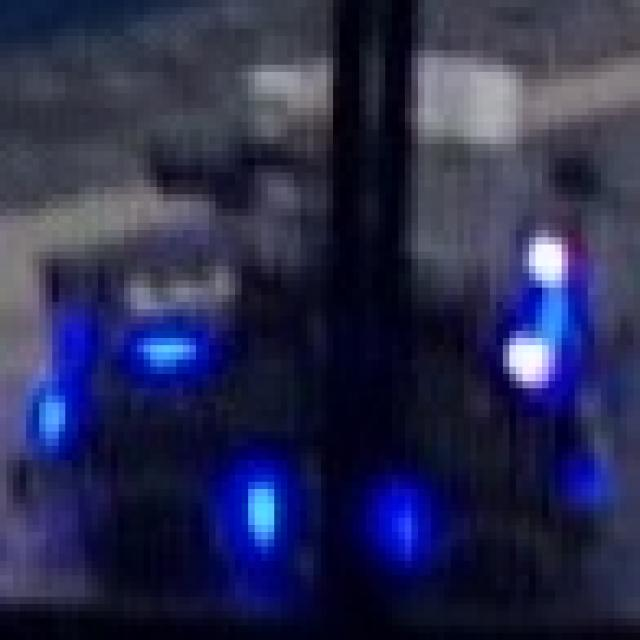B3: (98, 212, 242, 385)
